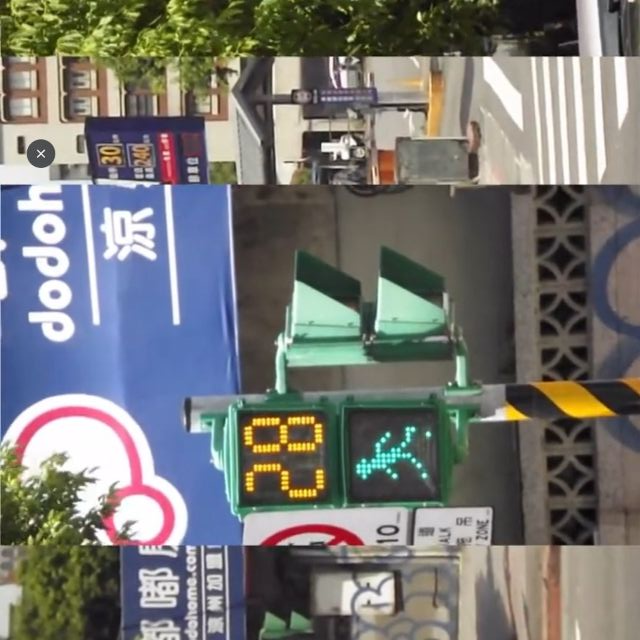green_light: (228, 404, 448, 506)
